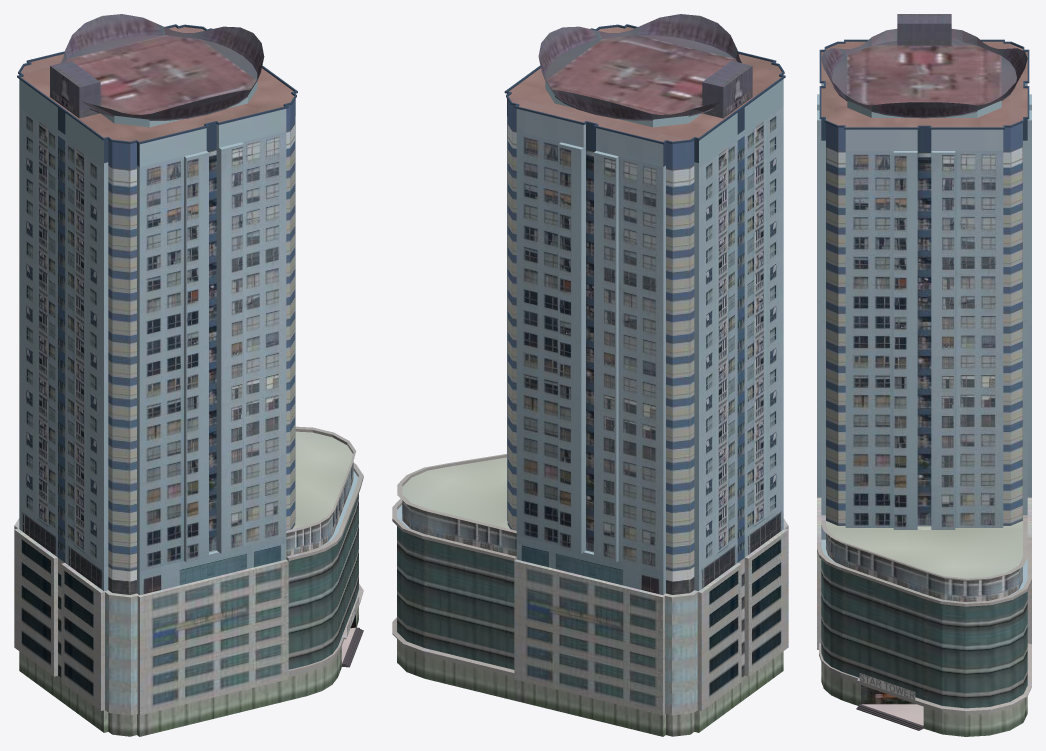
3 renders of one model, left to right at view 1: azimuth 30°, elevation 25°; view 2: azimuth 150°, elevation 25°; view 3: azimuth 270°, elevation 25°, orthographic. The views are drawn at different scales.
Visible parts, largest first — view 1: HN520___Star_Tower; view 2: HN520___Star_Tower; view 3: HN520___Star_Tower.
Part boxes in pixels (x1,y1,x2,y2): HN520___Star_Tower: [14, 14, 363, 736]; HN520___Star_Tower: [392, 14, 788, 736]; HN520___Star_Tower: [817, 14, 1031, 736].
Bounding box in the file's own units: 56.78 × 106 × 35.4.
Materials: 1 (1 with a texture image).
